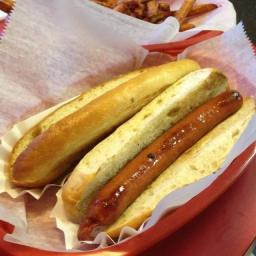hotdog: (58, 94, 250, 242)
